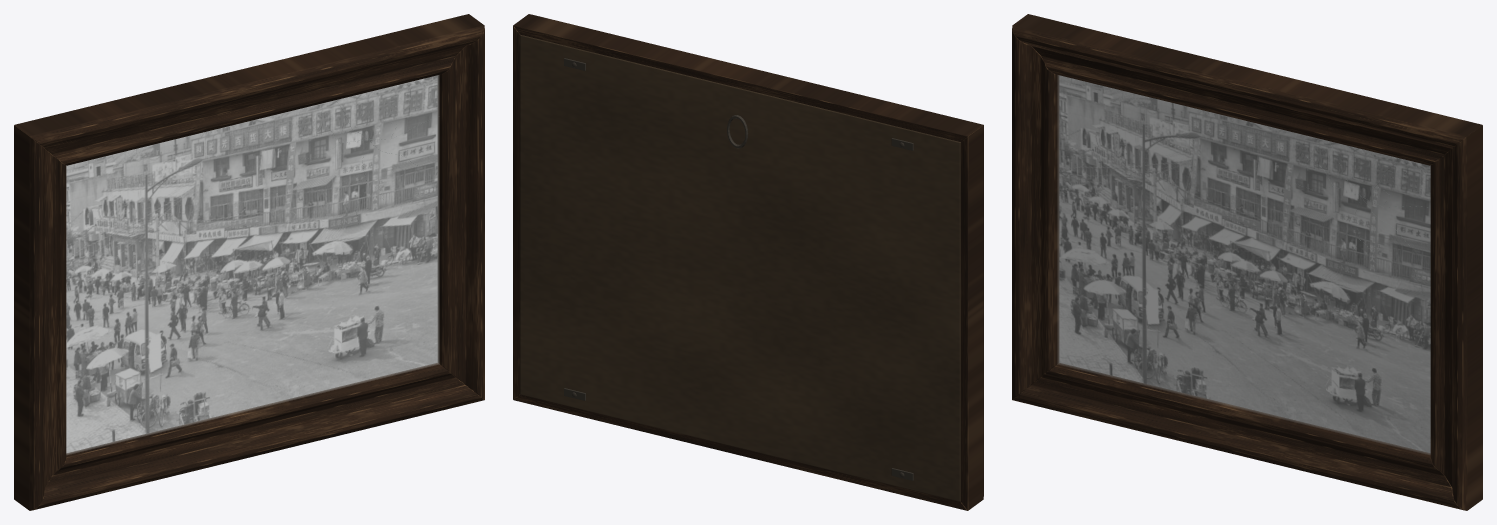
Rendered from OldPhotoFrame.glb.
3 renders of one model, left to right at view 1: azimuth 30°, elevation 25°; view 2: azimuth 150°, elevation 25°; view 3: azimuth 330°, elevation 25°, orthographic.
Parts seen in each view (by area): view 1: GlassPane, Photograph, Frame_Top, Frame_Bottom, Frame_Left, Frame_Right; view 2: Backboard, Frame_Top, Frame_Left, Frame_Bottom, Frame_Right; view 3: GlassPane, Photograph, Frame_Top, Frame_Bottom, Frame_Right, Frame_Left.
Boxes of the visible parts, <box> form: GlassPane: <box>66,75,439,454</box>; Photograph: <box>66,75,437,452</box>; Frame_Top: <box>14,14,484,165</box>; Frame_Bottom: <box>30,363,484,510</box>; Frame_Left: <box>14,125,66,510</box>; Frame_Right: <box>437,25,484,399</box>; Backboard: <box>520,35,960,501</box>; Frame_Top: <box>513,14,983,141</box>; Frame_Left: <box>960,125,983,510</box>; Frame_Bottom: <box>513,394,967,510</box>; Frame_Right: <box>513,25,520,399</box>; GlassPane: <box>1057,75,1430,454</box>; Photograph: <box>1059,75,1430,452</box>; Frame_Top: <box>1012,14,1482,165</box>; Frame_Bottom: <box>1012,363,1466,510</box>; Frame_Right: <box>1430,125,1482,510</box>; Frame_Left: <box>1012,25,1059,399</box>.
Size of the model in its own units: 0.32 by 0.2519 by 0.028.
7 materials, 4 textured.
